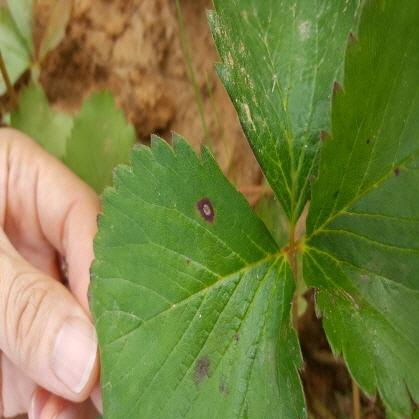Leaf Spot: (87, 129, 308, 418), (302, 0, 418, 418)
